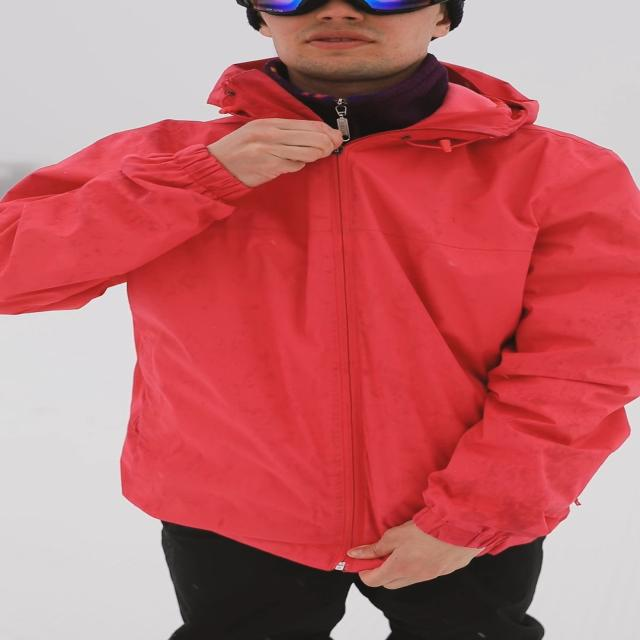Jacket_Wearer: (0, 62, 640, 556)
Person: (4, 0, 640, 640)
